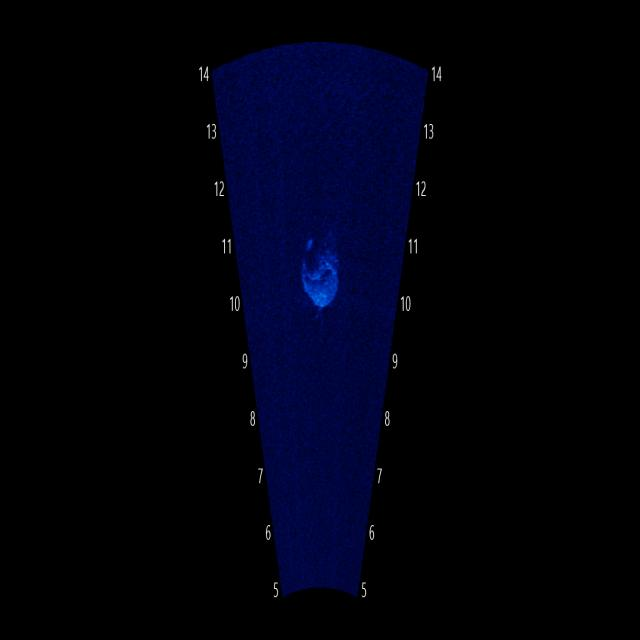circle: (296, 220, 351, 319)
